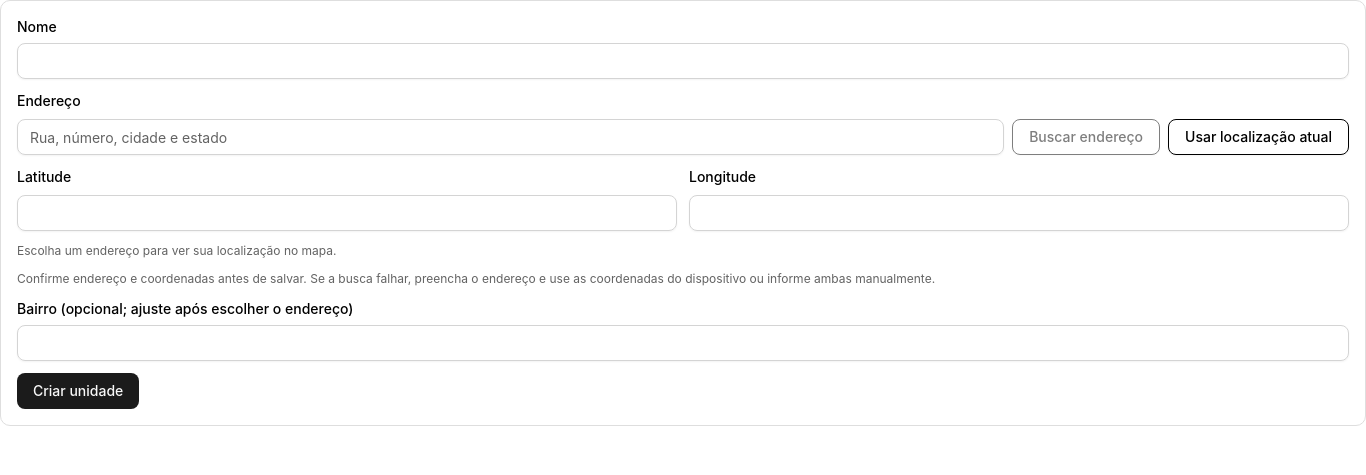
explains unavailable GPS and keeps manual coordinates usable
Click the button "Usar localização atual" at (1258, 137), box [1168,119,1349,155]
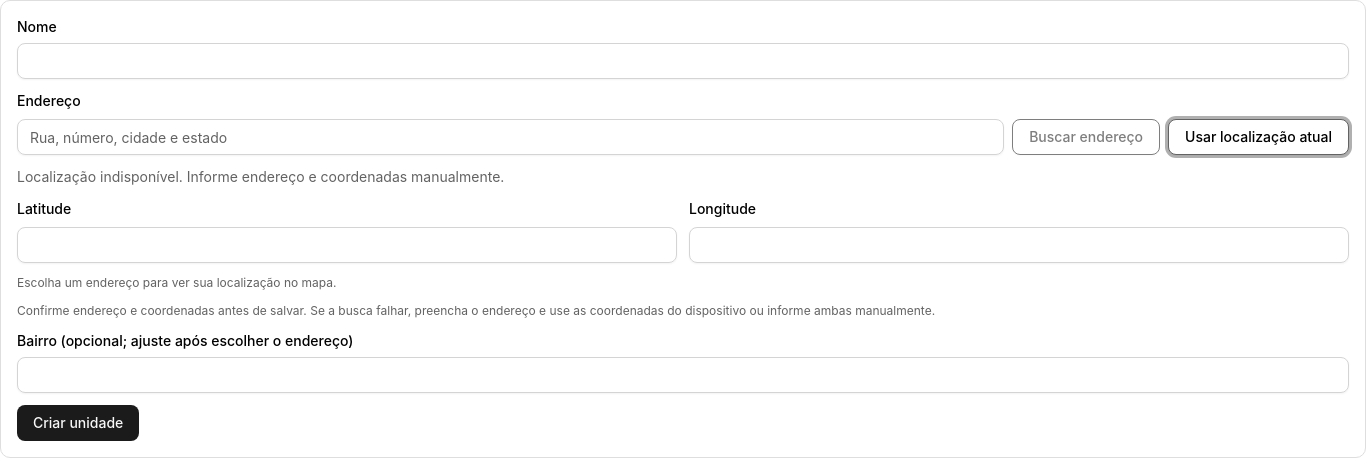
Expected: the number field named "unit latitude" is enabled, [17,227,677,263]
Expected: the message reads "Localização indisponível. Informe endereço e coordenadas manualmente.", [17,168,504,185]
